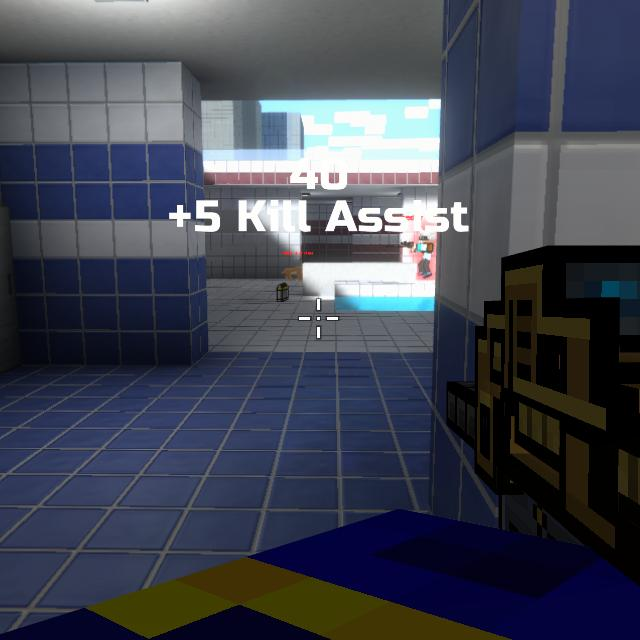Enemy: (412, 230, 435, 278)
